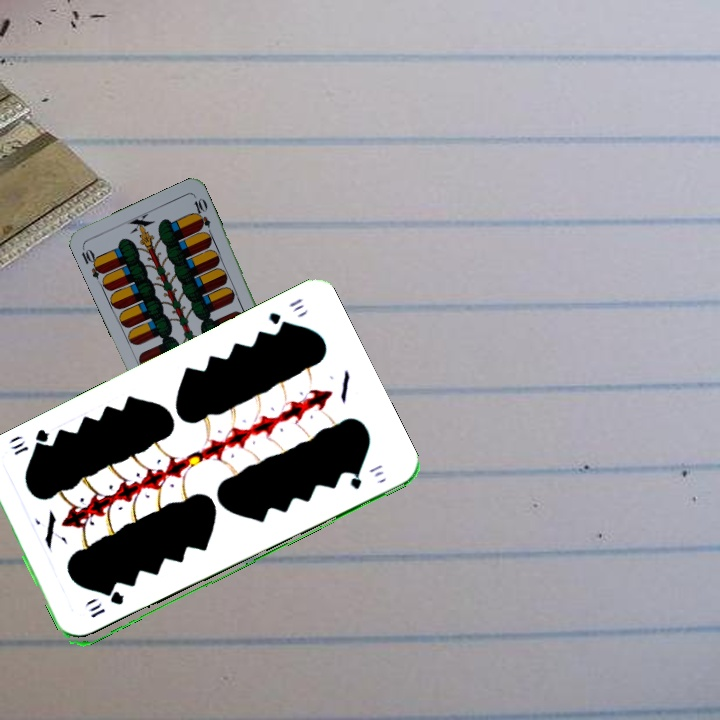E10: (77, 243, 107, 281)
G10: (264, 294, 306, 332), (86, 590, 127, 621)
